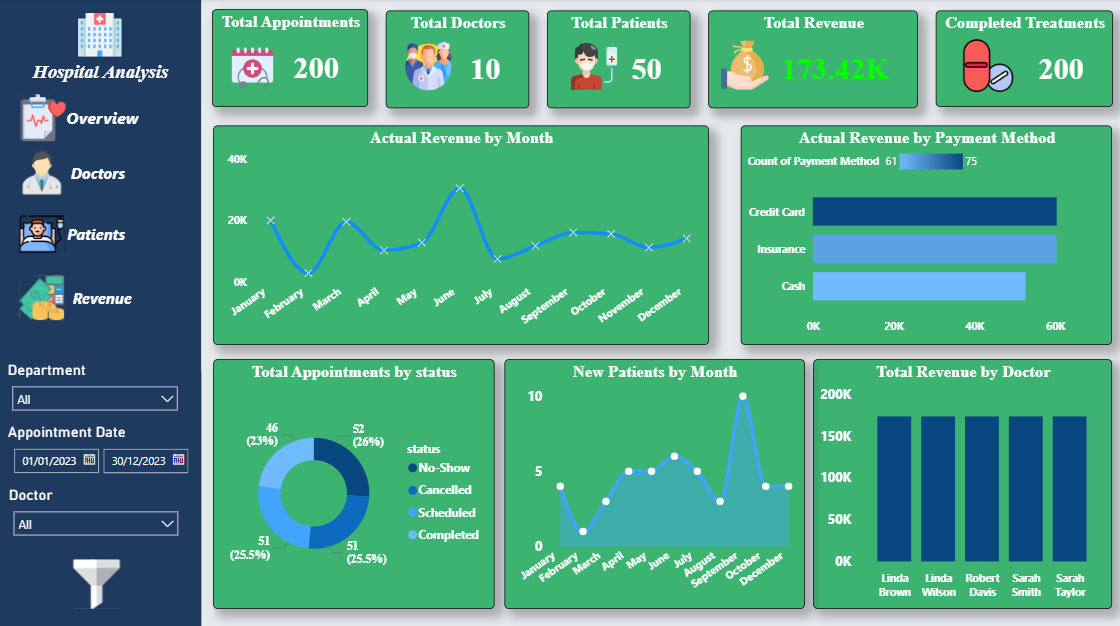

The dashboard page shown, as its layout file describes it:
{"tool":"powerbi","page":{"name":"Overview","canvas":[1280,720],"ordinal":0},"visuals":[{"type":"shape","box":[0,0,232.5,720],"z":0},{"type":"textbox","box":[20.9,67,193.4,37.4],"z":1000},{"type":"actionButton","box":[20.9,104.4,144,64.8],"z":2000},{"type":"actionButton","box":[20.9,169.2,128.6,59.3],"z":3000},{"type":"slicer","title":"Department","fields":{"Values":["doctors.specialization"]},"box":[7.7,412.1,208.8,71.4],"z":4000},{"type":"slicer","title":"Appointment Date","fields":{"Values":["appointments.appointment_date"]},"box":[7.7,483.5,219.8,71.4],"z":5000},{"type":"slicer","title":"Doctor","fields":{"Values":["doctors.Full Name"]},"box":[8.8,554.9,207.7,71.4],"z":6000},{"type":"image","box":[87.9,17.6,57.1,49.5],"z":7000},{"type":"actionButton","box":[20.9,239.6,128.6,59.3],"z":8000},{"type":"actionButton","box":[20.9,312.1,136.3,59.3],"z":9000},{"type":"cardVisual","title":"Total Appointments","fields":{"Data":["measuress.Total Appointments"]},"box":[245,13.4,178,111],"z":10000},{"type":"image","box":[262.6,56,54.9,48.4],"z":11000},{"type":"cardVisual","title":"Total Doctors","fields":{"Data":["measuress.Total Doctors"]},"box":[442.8,13.7,163.3,111.1],"z":12000},{"type":"image","box":[462.4,49.4,57.6,54.9],"z":13000},{"type":"cardVisual","title":"Total Patients","fields":{"Data":["measuress.Total Patients"]},"box":[625.9,13.7,163.3,111.1],"z":14000},{"type":"image","box":[651.8,46.7,56.3,61.7],"z":15000},{"type":"cardVisual","title":"Total Revenue","fields":{"Data":["measuress.Actual Revenue"]},"box":[809,13.7,238.8,111.1],"z":16000},{"type":"image","box":[822,48,57.6,56.3],"z":17000},{"type":"cardVisual","title":"Completed Treatments","fields":{"Data":["measuress.Completed Treatments"]},"box":[1067.6,13.7,201.7,109.8],"z":18000},{"type":"image","box":[1086.8,46.7,82.3,60.4],"z":19000},{"type":"lineChart","fields":{"Category":["billing.bill_date.Variation.Date Hierarchy.Month"],"Y":["measuress.Actual Revenue"]},"box":[245.6,145.5,564,249.7],"z":20000},{"type":"donutChart","fields":{"Category":["appointments.status"],"Y":["measuress.Total Appointments"]},"box":[245.6,411.7,319.7,284],"z":21000},{"type":"barChart","fields":{"Category":["billing.payment_method"],"Y":["measuress.Actual Revenue"]},"box":[846.7,145.5,422.6,249.7],"z":22000},{"type":"columnChart","title":"Total Revenue by Doctor","fields":{"Category":["doctors.Full Name"],"Y":["measuress.Actual Revenue"]},"box":[929,411.7,340.3,284],"z":23000},{"type":"areaChart","fields":{"Category":["patients.registration_date.Variation.Date Hierarchy.Month"],"Y":["measuress.New Patients"]},"box":[577.7,411.7,341.7,284],"z":24000},{"type":"actionButton","box":[81,625.7,64.5,82.3],"z":25000}]}

Visuals, with their boxes in screenshot pixels (x1, y1, x2, y2), scaled from the page's 1280x720 canvas onto the 1120x626 screenshot:
shape: bbox=[0, 0, 203, 625]
textbox: bbox=[18, 58, 188, 91]
actionButton: bbox=[18, 91, 144, 147]
actionButton: bbox=[18, 147, 131, 199]
"Department" slicer: bbox=[7, 358, 189, 420]
"Appointment Date" slicer: bbox=[7, 420, 199, 482]
"Doctor" slicer: bbox=[8, 482, 189, 545]
image: bbox=[77, 15, 127, 58]
actionButton: bbox=[18, 208, 131, 260]
actionButton: bbox=[18, 271, 138, 323]
"Total Appointments" cardVisual: bbox=[214, 12, 370, 108]
image: bbox=[230, 49, 278, 91]
"Total Doctors" cardVisual: bbox=[387, 12, 530, 109]
image: bbox=[405, 43, 455, 91]
"Total Patients" cardVisual: bbox=[548, 12, 691, 109]
image: bbox=[570, 41, 620, 94]
"Total Revenue" cardVisual: bbox=[708, 12, 917, 109]
image: bbox=[719, 42, 770, 91]
"Completed Treatments" cardVisual: bbox=[934, 12, 1111, 107]
image: bbox=[951, 41, 1023, 93]
lineChart - billing.bill_date.Variation.Date Hierarchy.Month x measuress.Actual Revenue: bbox=[215, 127, 708, 344]
donutChart - appointments.status x measuress.Total Appointments: bbox=[215, 358, 495, 605]
barChart - billing.payment_method x measuress.Actual Revenue: bbox=[741, 127, 1111, 344]
"Total Revenue by Doctor" columnChart: bbox=[813, 358, 1111, 605]
areaChart - patients.registration_date.Variation.Date Hierarchy.Month x measuress.New Patients: bbox=[505, 358, 804, 605]
actionButton: bbox=[71, 544, 127, 616]
